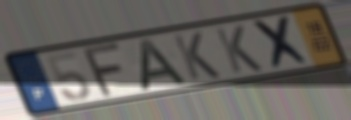5: (43, 49, 93, 102)
A: (137, 37, 192, 93)
F: (82, 40, 127, 100)
K: (170, 30, 224, 82), (212, 24, 266, 76)
X: (248, 14, 315, 72)
